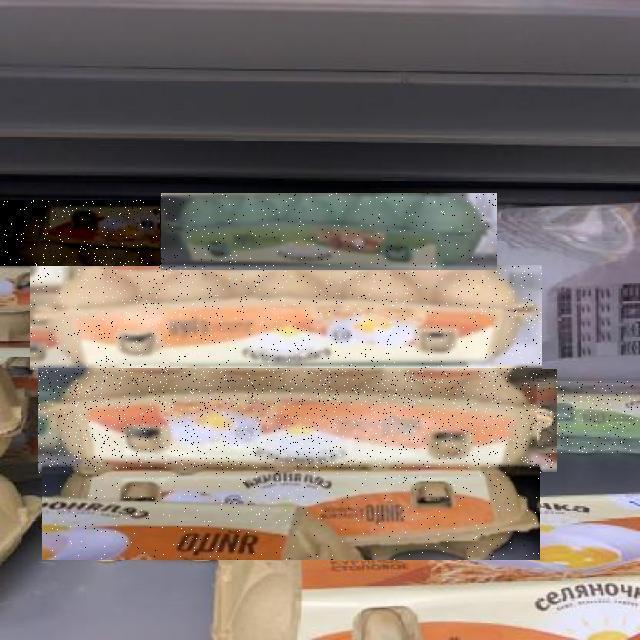Eggs: (30, 266, 542, 372), (38, 370, 557, 474), (42, 468, 540, 560), (161, 193, 497, 270), (0, 200, 160, 266), (537, 381, 640, 453)
